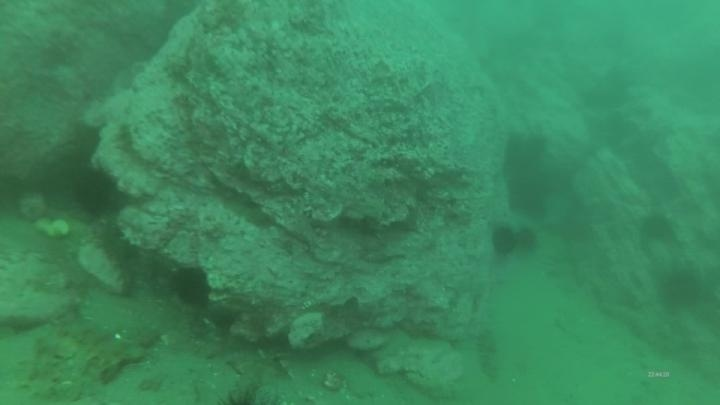echinus: (69, 165, 120, 218), (505, 173, 552, 219), (657, 267, 704, 312), (168, 264, 212, 309), (638, 210, 677, 245), (488, 223, 520, 259), (512, 224, 541, 256)
holothurian: (58, 321, 143, 376), (472, 325, 502, 384)
